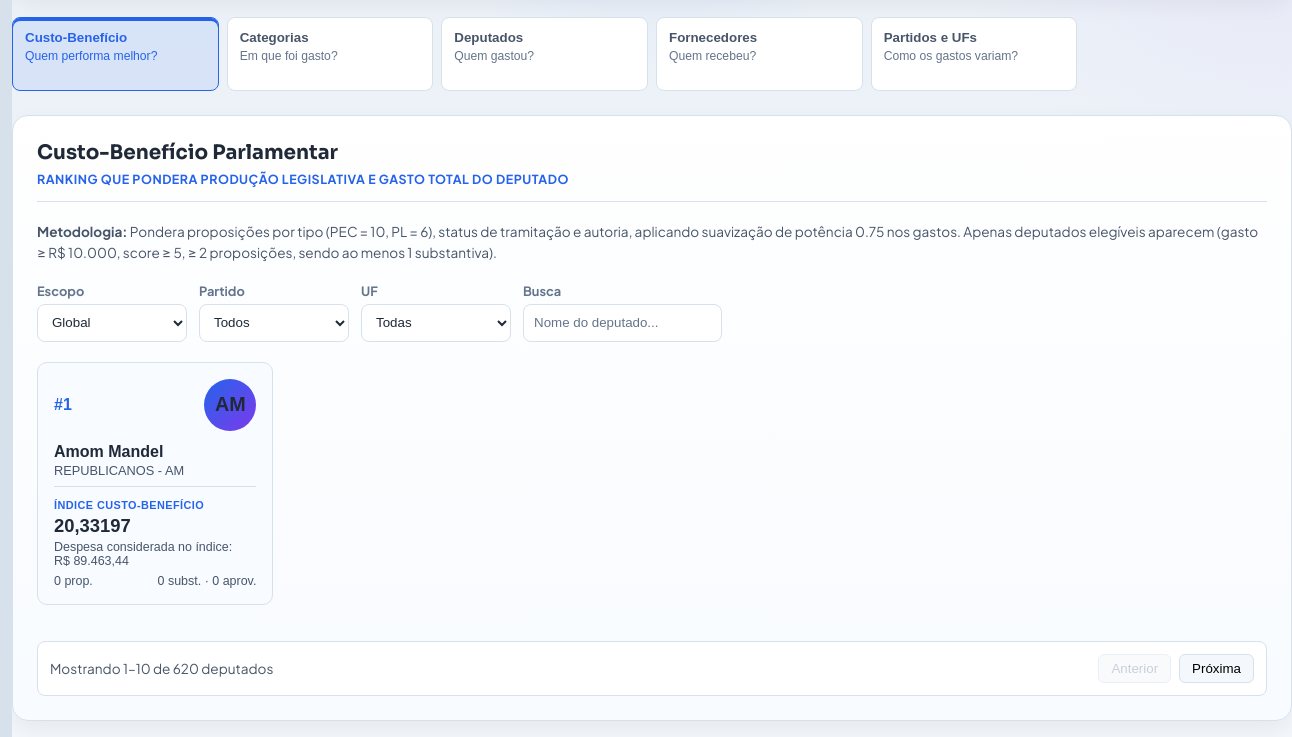
Test: renders the selected deputy drilldown from Q12 and Q13 with deputy-based percentages
Click the button named "DeputadosQuem gastou". click: (545, 54)
box: [441,17,648,91]
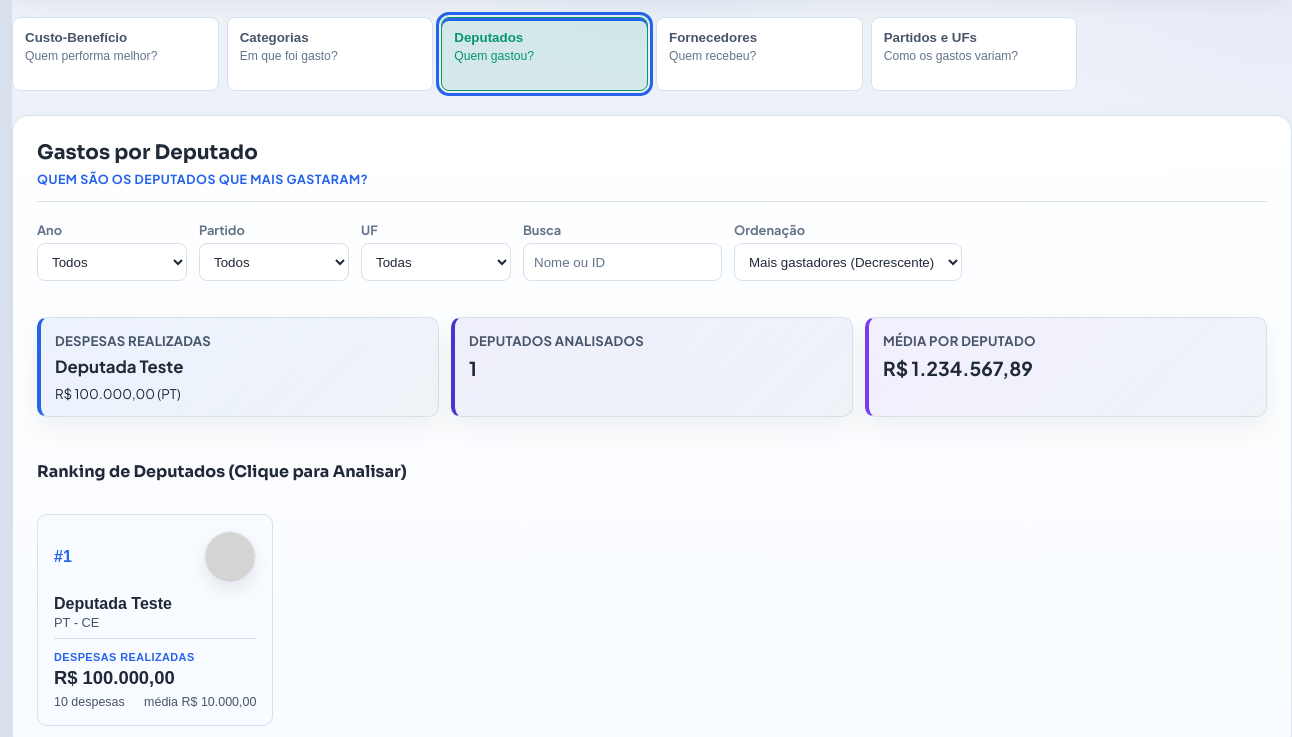
Now the heading "Ranking de Deputados (Clique para Analisar)" is shown, box [37,461,407,482]
Click the button "Deputada Teste". click: (155, 620)
box: [37,514,273,726]
(page scrolled)
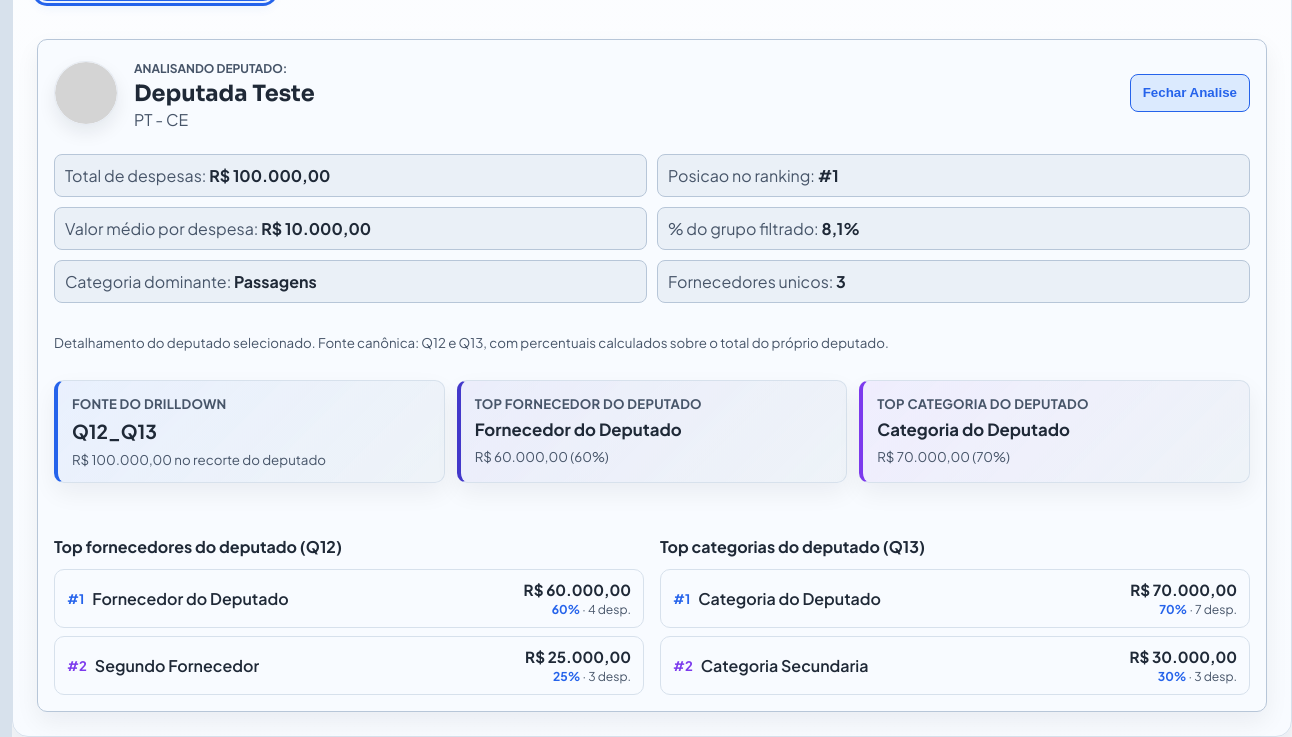
Now the text "Fonte canônica: Q12 e Q13" is shown, box [54,334,889,350]
Now the heading "Top fornecedores do deputado (Q12)" is shown, box [54,536,342,557]
Now the heading "Top categorias do deputado (Q13)" is shown, box [660,536,925,557]
